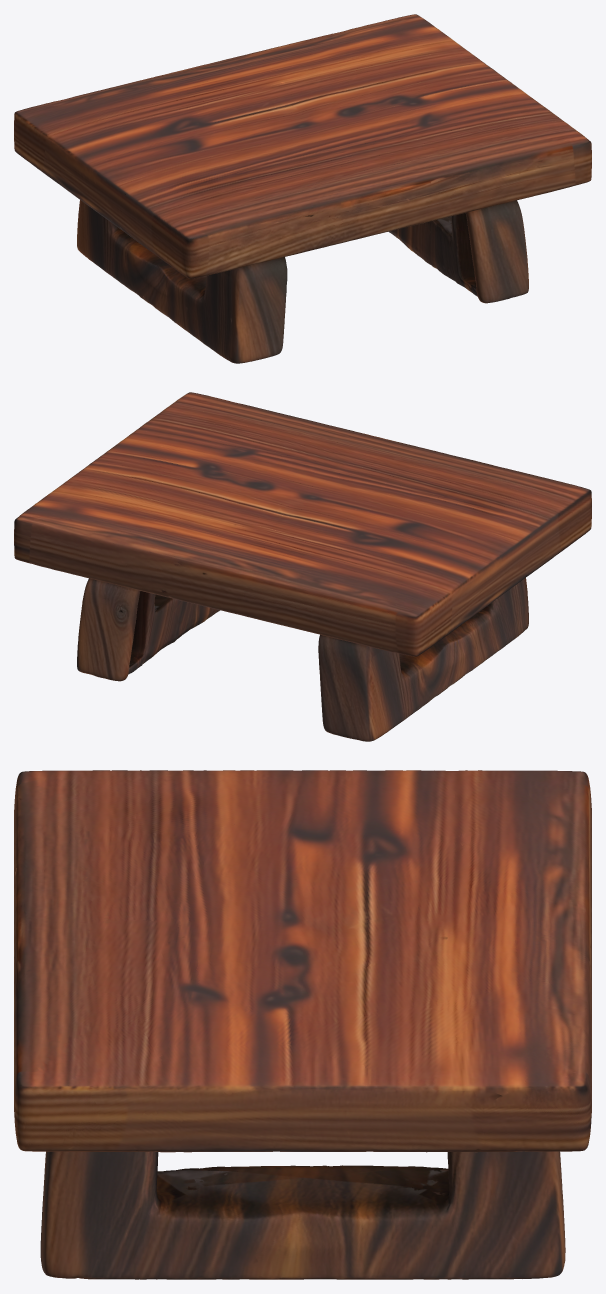
The model's file is Plant_Table.glb.
3 views of the same model, one above another, from view 1: azimuth 30°, elevation 25°; view 2: azimuth 150°, elevation 25°; view 3: azimuth 270°, elevation 25° (orthographic). The views are drawn at different scales.
Size of the model in its own units: 1.9 by 0.6793 by 1.45.
Materials: 1 (1 with a texture image).
